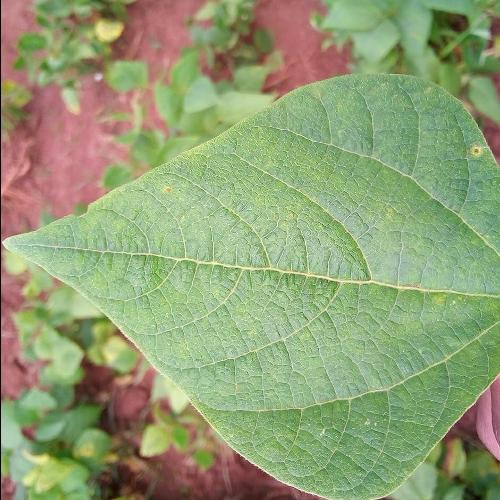mozaik: (180, 167, 464, 374)
